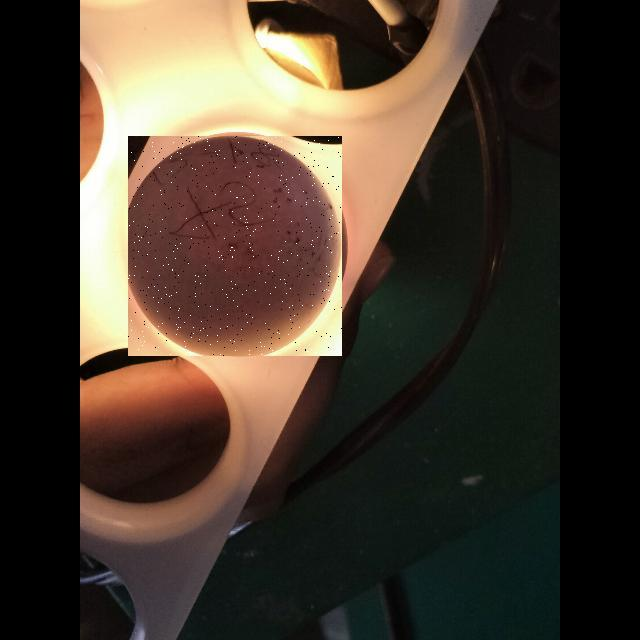Fertile: (128, 136, 342, 356)
